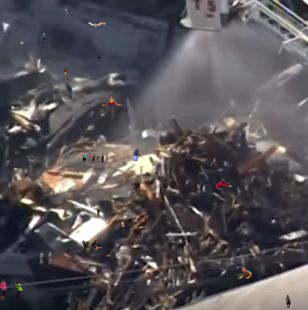Human: (77, 151, 113, 166), (0, 279, 23, 302), (155, 15, 184, 33), (82, 240, 107, 259), (55, 82, 73, 100), (83, 18, 110, 28), (102, 95, 123, 106), (215, 179, 233, 191), (39, 252, 53, 265), (238, 267, 252, 279), (133, 147, 143, 161), (40, 33, 50, 46), (155, 130, 171, 137), (210, 157, 218, 166), (286, 295, 291, 308), (121, 221, 125, 233), (97, 208, 101, 217), (131, 290, 136, 296), (64, 68, 67, 77), (65, 9, 70, 14), (16, 131, 19, 139), (20, 41, 24, 45), (68, 256, 73, 259), (96, 56, 100, 59), (141, 21, 144, 25), (125, 262, 127, 267)
